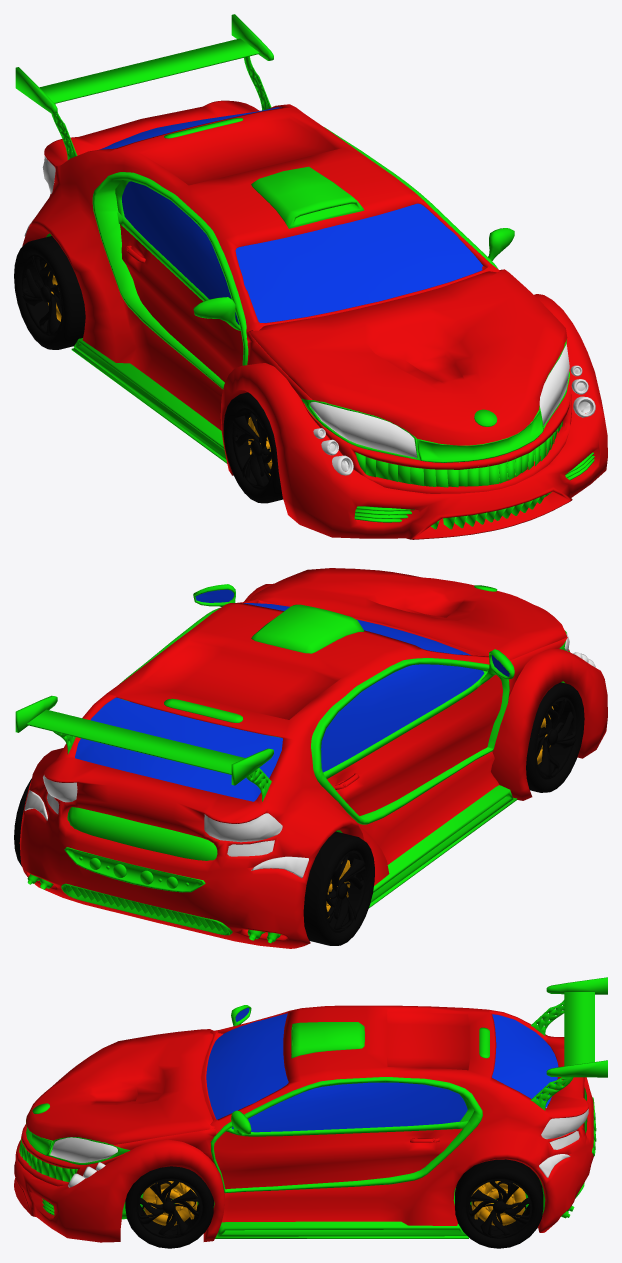
The model's file is common car_Final.fbx.
The picture shows the model from 3 angles, top to bottom: view 1: azimuth 30°, elevation 25°; view 2: azimuth 150°, elevation 25°; view 3: azimuth 270°, elevation 25°; orthographic projection. The views are drawn at different scales.
Parts seen in each view (by area): view 1: mainbody_l, extras_l, Window_glass_l, wheel_low.003, wheel_low.002, FrontLight_glass_l, LightsChrome_l; view 2: mainbody_l, extras_l, Window_glass_l, wheel_low.003, wheel_low.002, BackLight_glass_l, BackLight_l; view 3: mainbody_l, extras_l, Window_glass_l, wheel_low, wheel_low.001, FrontLight_glass_l, BackLight_glass_l, BackLight_l.
Part boxes in pixels (x1,y1,x2,y2): mainbody_l: (22,100,607,539); extras_l: (15,14,594,529); Window_glass_l: (100,107,482,324); wheel_low.003: (14,236,85,349); wheel_low.002: (223,392,283,503); FrontLight_glass_l: (310,344,569,457); LightsChrome_l: (313,356,595,475); mainbody_l: (19,568,607,948); extras_l: (15,584,569,943); Window_glass_l: (75,589,509,801); wheel_low.003: (303,831,374,945); wheel_low.002: (526,682,584,792); BackLight_glass_l: (43,775,282,842); BackLight_l: (24,790,308,878); mainbody_l: (14,1005,593,1242); extras_l: (19,977,607,1238); Window_glass_l: (206,1008,558,1132); wheel_low: (455,1159,543,1248); wheel_low.001: (125,1166,213,1248); FrontLight_glass_l: (50,1137,117,1162); BackLight_glass_l: (541,1109,588,1139); BackLight_l: (539,1131,579,1177).
Bounding box in the file's own units: 227 × 148 × 464.
